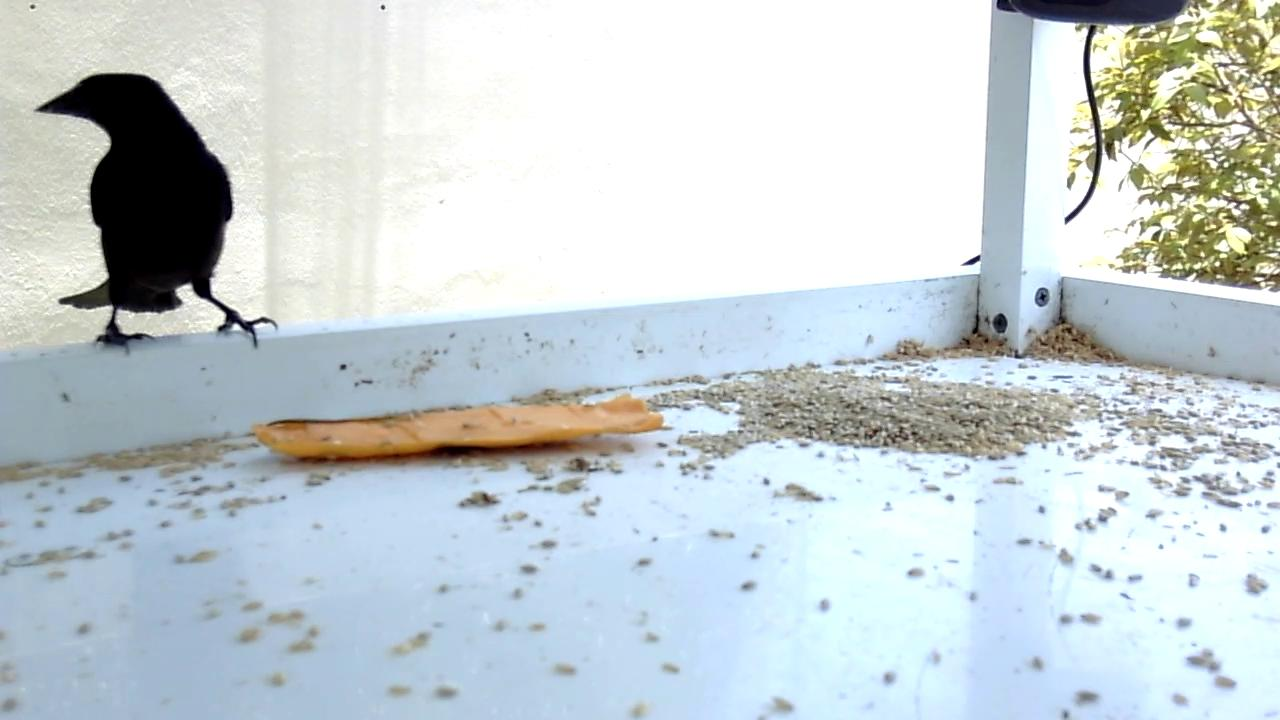chupim: (28, 68, 283, 361)
